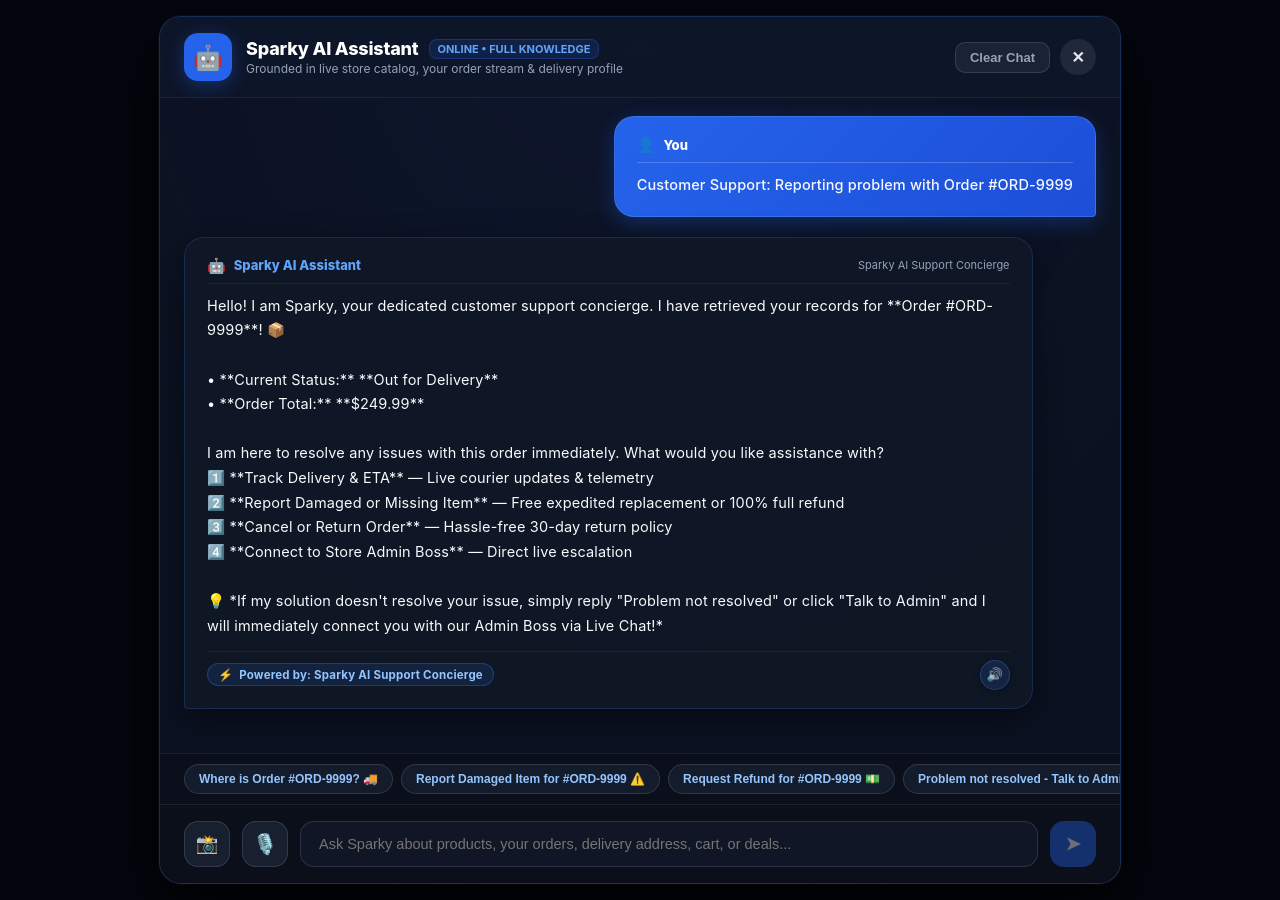
Test case: Day 20 – SneakPeek Robo Assistant & Segmented Role Switcher › handles Customer Support from Orders tab, answers order query, and routes to Admin Live Chat if problem not resolved
The width and height of the screenshot is (1280, 900).
expect the text "Customer Support: Reporting problem with Order #ORD-9999" is shown: met, box [637,173,1073,198]
expect the text "Out for Delivery" is shown: met, box [207,297,993,634]
# User reports problem is not resolved
Replace the text in the field with test id "ai-chat-input" with "Package damaged, problem not resolved, talk to admin": [669, 844] box [300,821,1038,867]
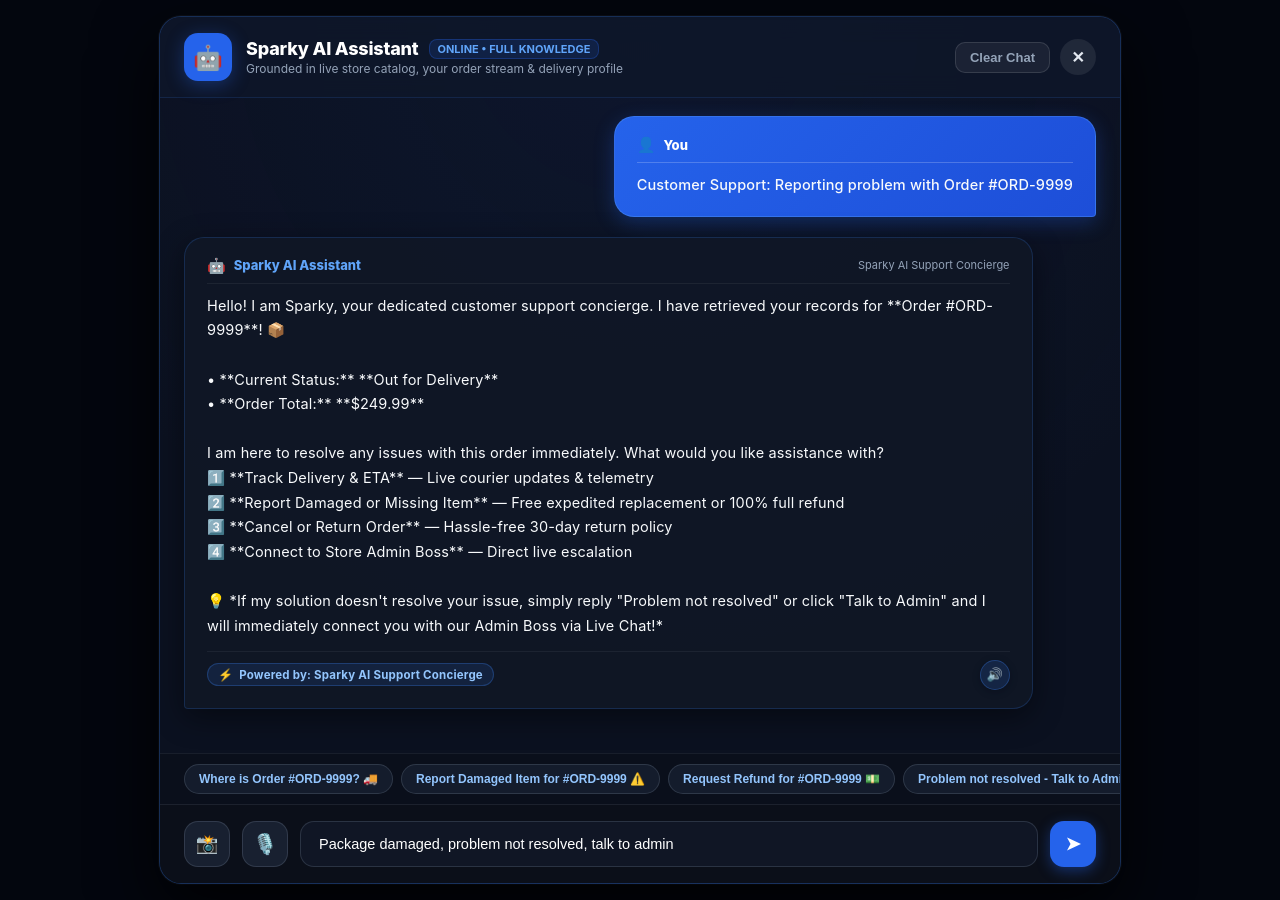
Click the button with test id "ai-chat-send-btn": [1073, 844] box [1050,821,1096,867]
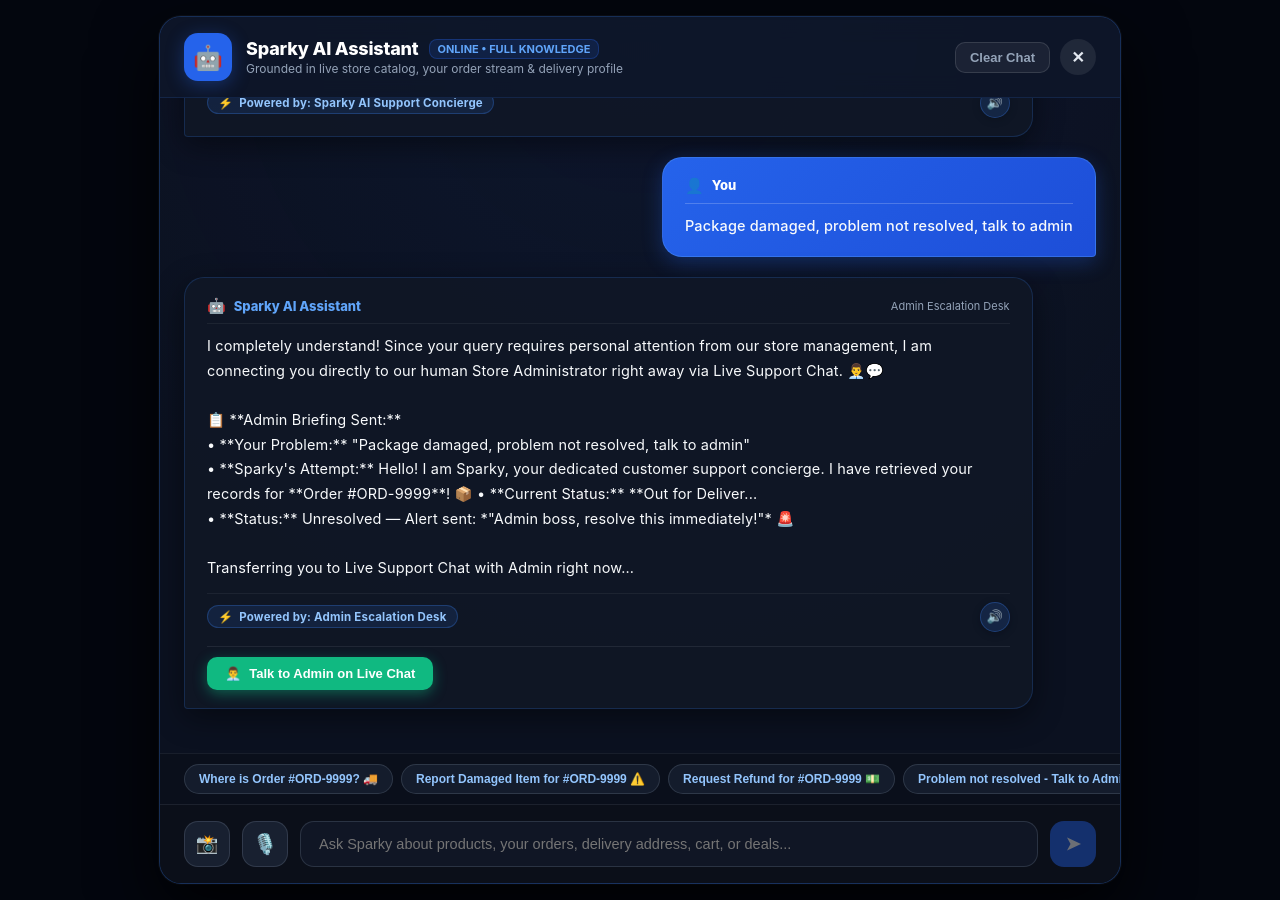
expect the text "connecting you directly to our human Store Administrator right away via Live Support Chat" is shown: met, box [207,337,977,576]
